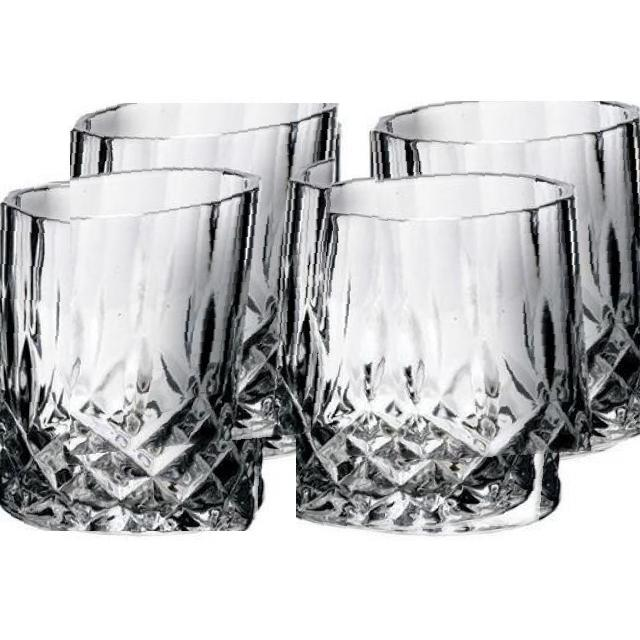Glass: (368, 101, 640, 462), (296, 177, 568, 536), (70, 103, 342, 460), (0, 179, 267, 532)
